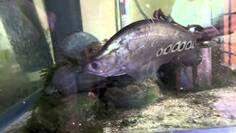Knifefish: (84, 16, 206, 81)
